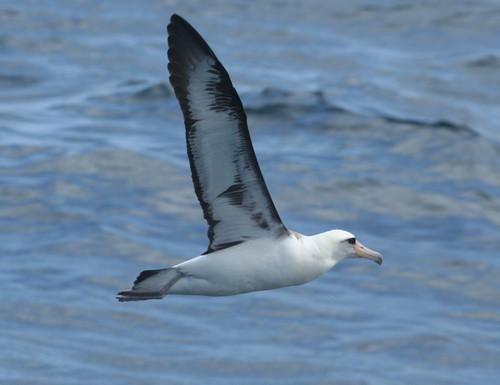bird: (117, 13, 385, 304)
